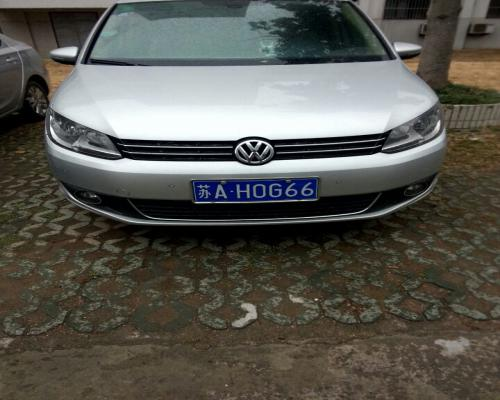Carplate: (180, 176, 334, 206)
